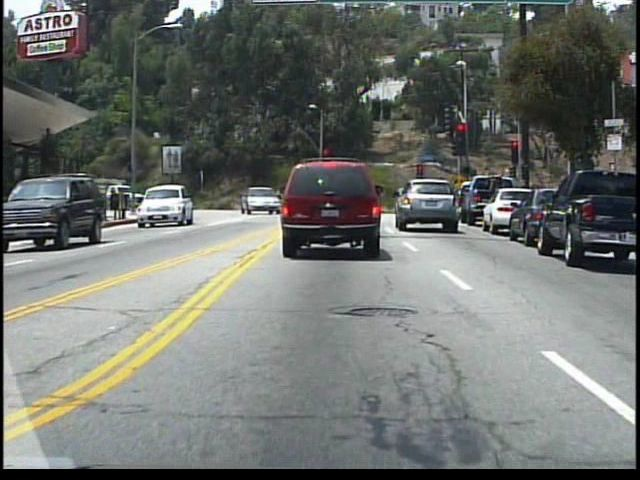person: (270, 186, 286, 212)
